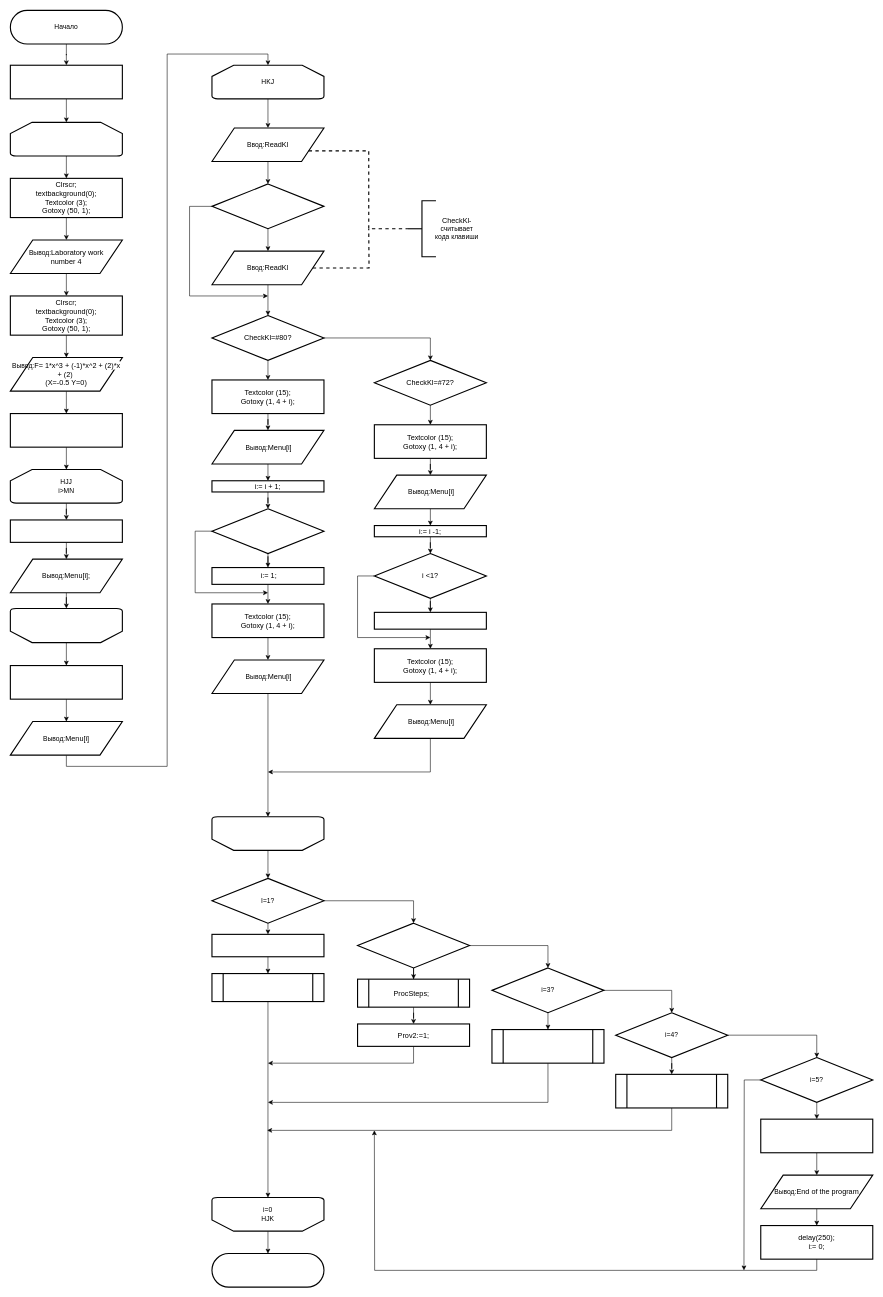
Some shapes in this 883 by 1297 pixel diagram are drawn without their labels. Each missing label, with the centre of its shape:
"CheckKl =#13 HKJ" goes at (267,833).
"clrscr; Textcolor (15);" goes at (816,1135).
"Gotoxy (44, 2); Textcolor (15); i:=0;" goes at (66,430).
"graph;" goes at (671,1091).
"HJJ" goes at (66,625).
"HJK" goes at (66,139).
"i >MN?" goes at (267,531).
"i:= 1; TextColor (10); Gotoxy (1, 4 + i);" goes at (66,682).
"i:= 5;" goes at (430,620).
"i:=i+1 GotoXY (1, 4 + i);" goes at (66,531).
"i=2?" goes at (413,945).
"ProcVod;" goes at (267,987).
"Prov1:=0; P1:=1; Prov2:=0;" goes at (66,81).
"Prov1:=1;" goes at (267,945).
"ReadKl =0?" goes at (267,206).
"rocS" goes at (547,1046).
"конец" goes at (267,1270).
